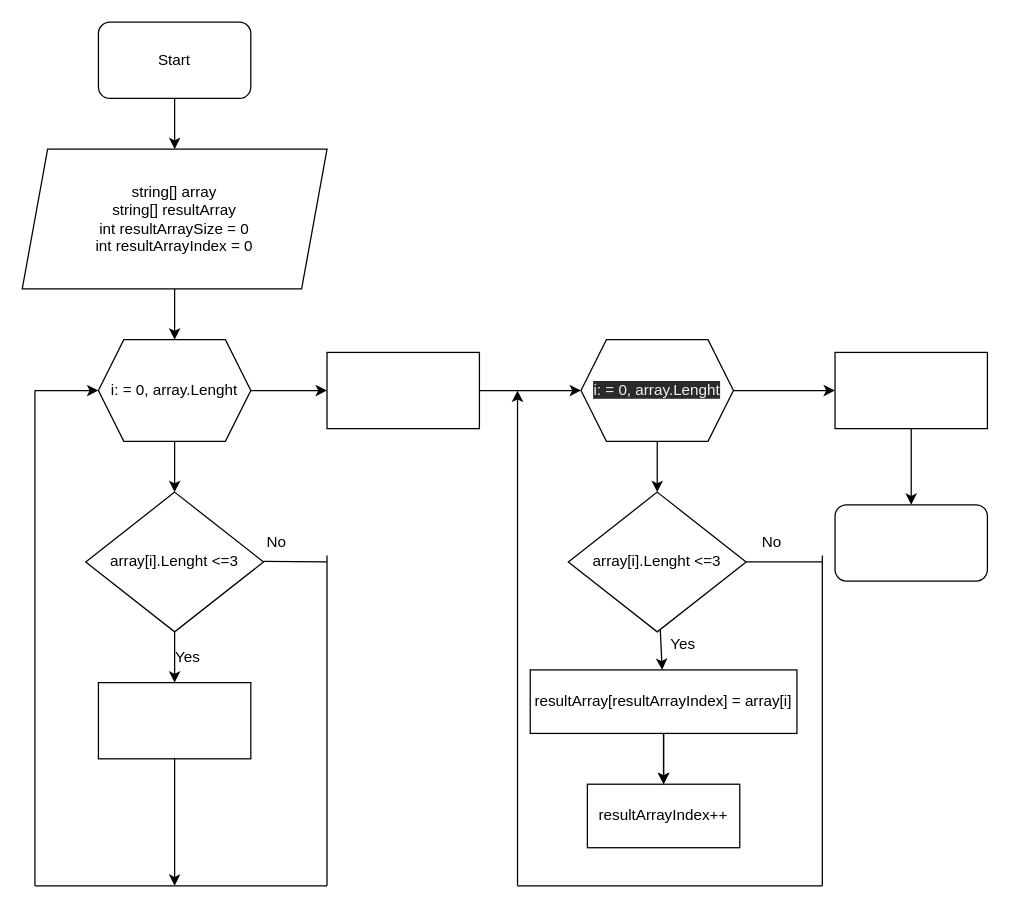
This 1010x918 diagram has some shape labels left out. The shapes that lost their labels are listed below. From the top down, each one's centre as x and y in pixels, then its label:
pixel 402 390: resultArraySize
pixel 910 390: string[] resultArray
pixel 910 542: Finish
pixel 174 720: resultArraySize++
